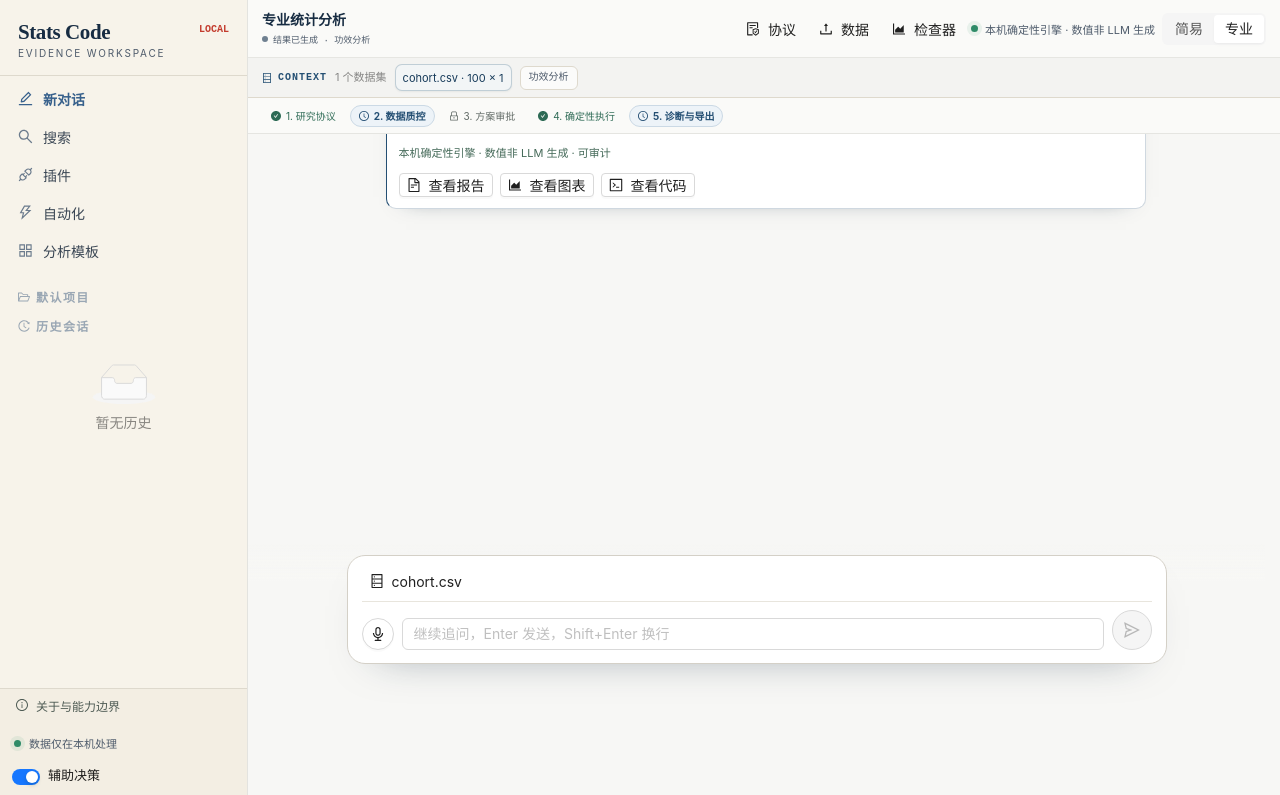
ProModeView (Requirements 4.1, 4.3) › labels power results as design-phase calculations without a data snapshot
(page scrolled)
Expected: the text "结果已生成 · 功效分析" is shown, 262,33 -> 370,46
Click the button with aria-label "打开分析检查器" at (924, 28), box 884,16 -> 964,40
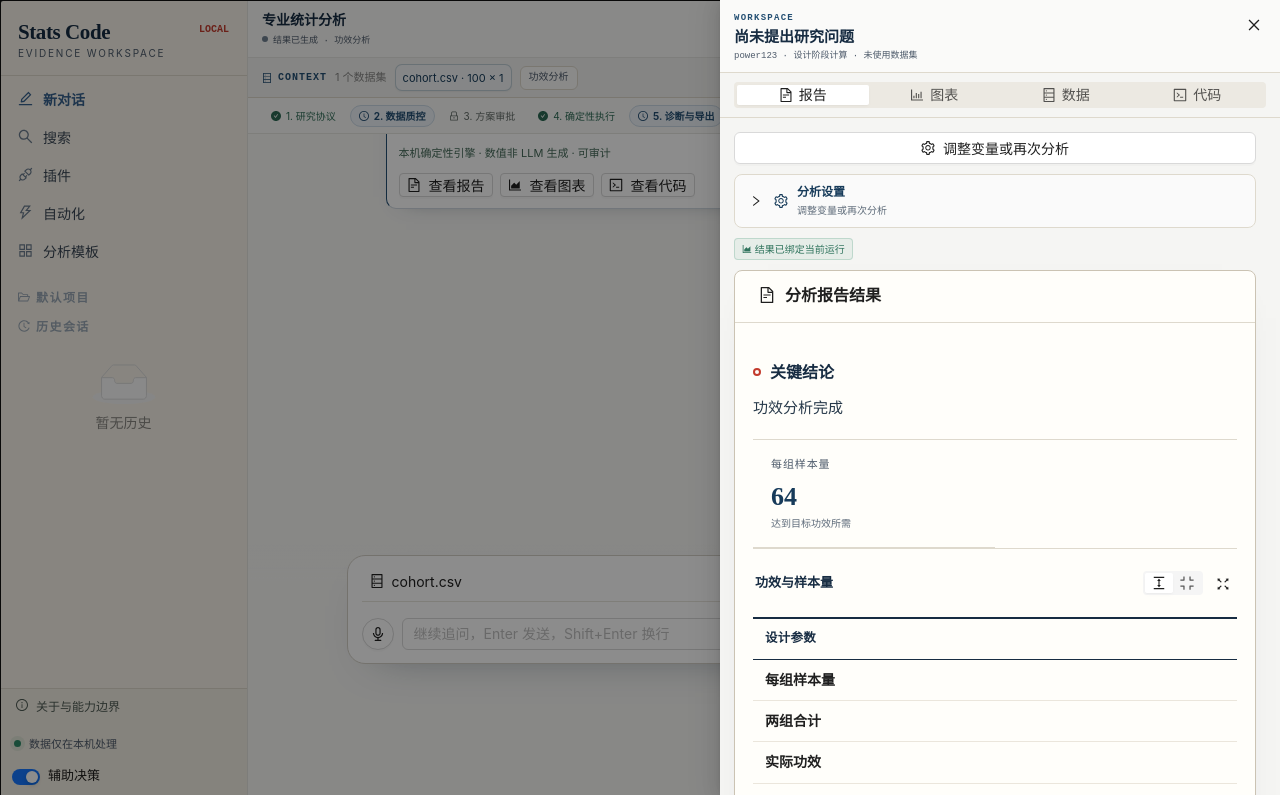
Expected: the text "power123 · 设计阶段计算 · 未使用数据集" is shown, 734,51 -> 918,61
